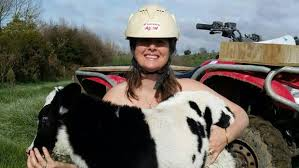helmet: (117, 1, 194, 77)
